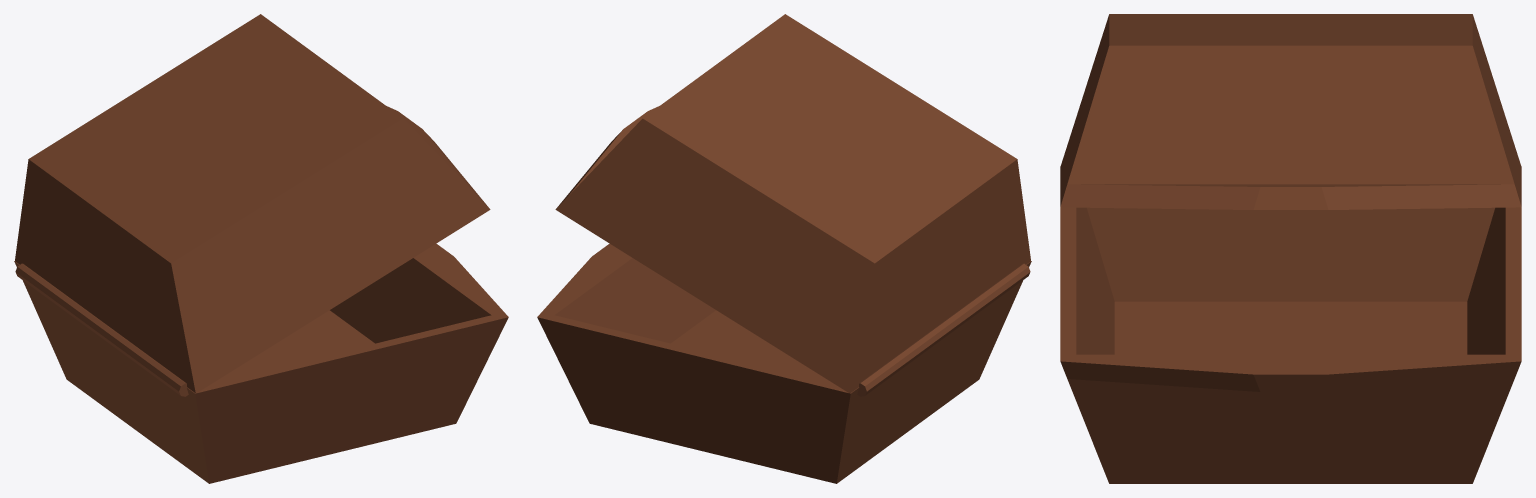
The model's file is SmallTakeoutBox.fbx.
3 views of the same model, side by side, from view 1: azimuth 30°, elevation 25°; view 2: azimuth 150°, elevation 25°; view 3: azimuth 270°, elevation 25° (orthographic). The views are drawn at different scales.
Parts seen in each view (by area): view 1: Cylinder; view 2: Cylinder; view 3: Cylinder.
Boxes of the visible parts, <box> form: Cylinder: <box>14,14,508,483</box>; Cylinder: <box>537,14,1031,483</box>; Cylinder: <box>1060,14,1521,483</box>.
Bounding box in the file's own units: 16.2 × 14.4 × 14.85.
Materials: 1 (1 with a texture image).
